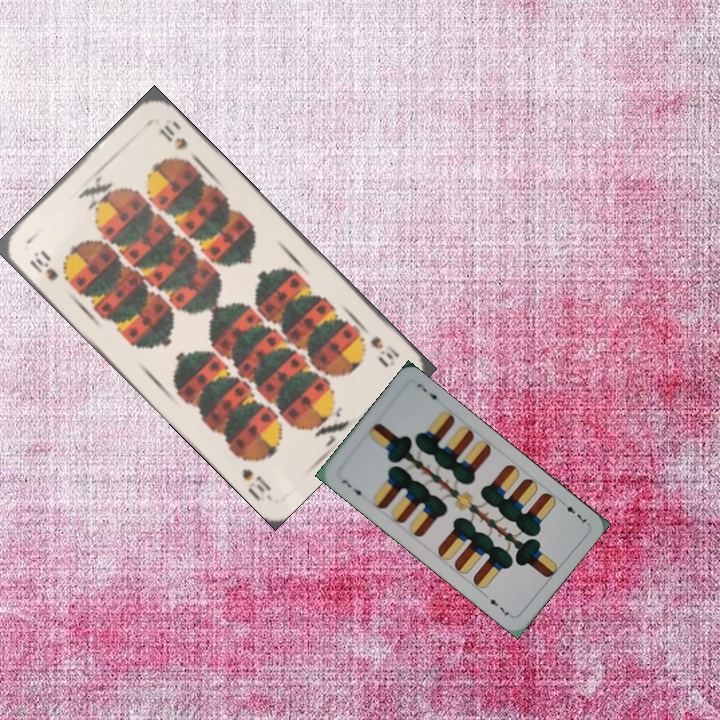E7: (556, 498, 590, 526), (338, 475, 367, 502)
S10: (25, 246, 61, 284), (366, 332, 402, 369)
